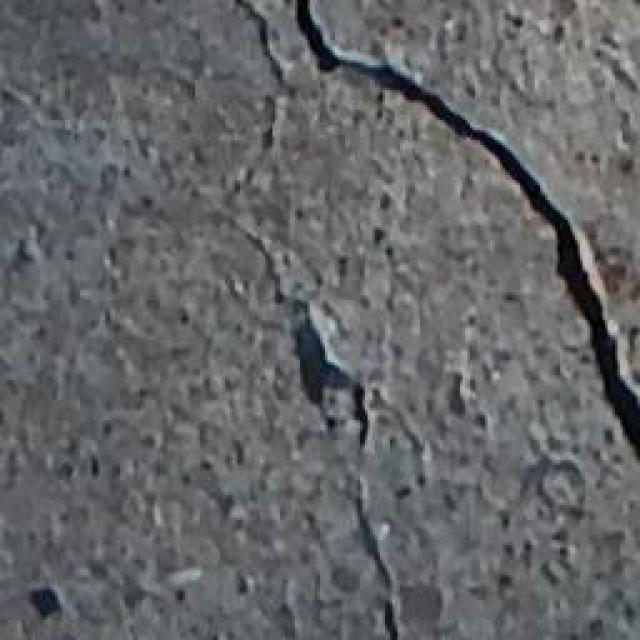concrete-crack: (287, 0, 640, 475), (196, 0, 411, 640), (22, 588, 62, 625)
